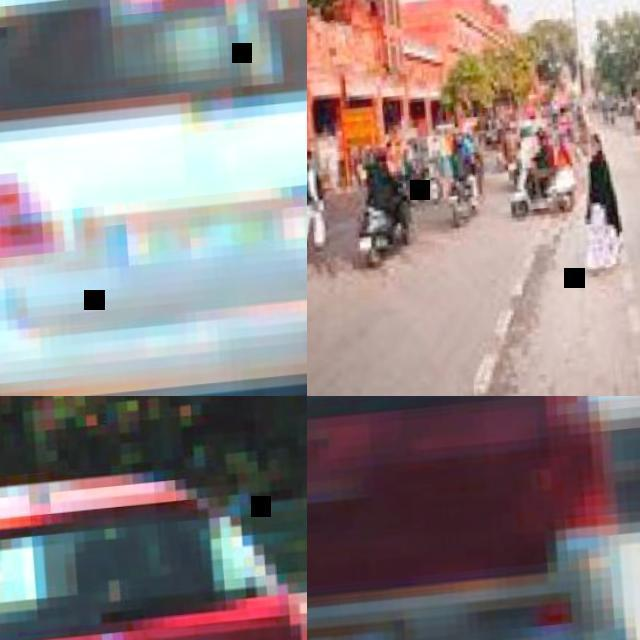car: (0, 470, 296, 639)
